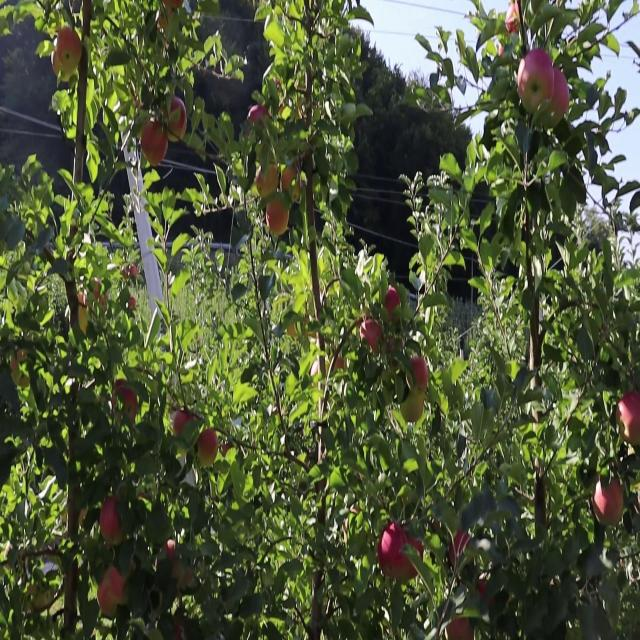apple: (516, 49, 553, 116), (592, 476, 624, 528), (393, 533, 424, 583), (140, 120, 168, 171), (100, 568, 128, 619), (56, 28, 84, 78), (616, 391, 640, 448), (380, 526, 404, 581), (100, 497, 125, 548), (548, 71, 572, 124), (112, 376, 140, 421), (401, 533, 424, 581), (256, 163, 280, 201), (400, 391, 425, 427), (268, 199, 291, 238), (168, 99, 188, 142), (200, 426, 220, 468), (68, 490, 88, 532), (172, 405, 196, 439), (248, 106, 272, 137), (364, 319, 384, 354), (412, 355, 431, 391), (284, 163, 302, 199), (160, 0, 183, 28), (452, 533, 472, 565), (384, 291, 401, 325), (448, 618, 475, 639), (480, 575, 496, 610), (156, 7, 176, 34), (12, 348, 27, 379), (388, 334, 405, 361), (76, 305, 91, 334), (508, 7, 521, 36), (76, 504, 88, 530), (352, 319, 364, 340), (164, 540, 176, 560), (332, 355, 345, 372), (176, 618, 184, 638)
